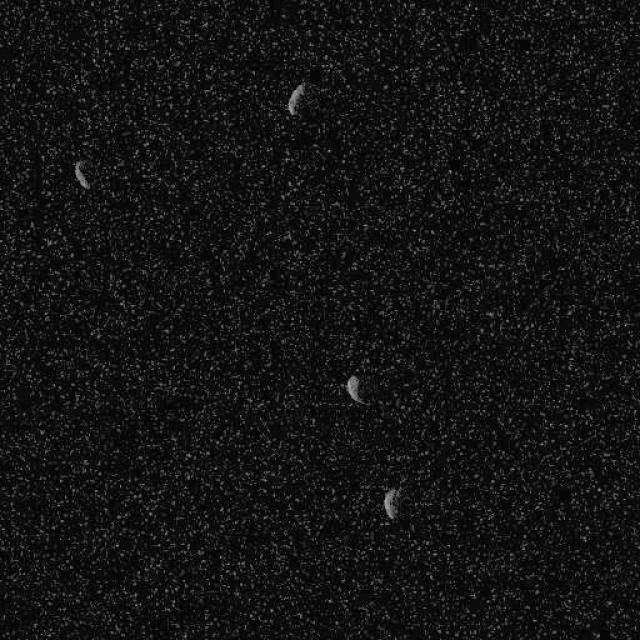D2: (286, 82, 308, 116), (345, 374, 366, 405), (382, 486, 400, 520), (72, 159, 91, 190)
